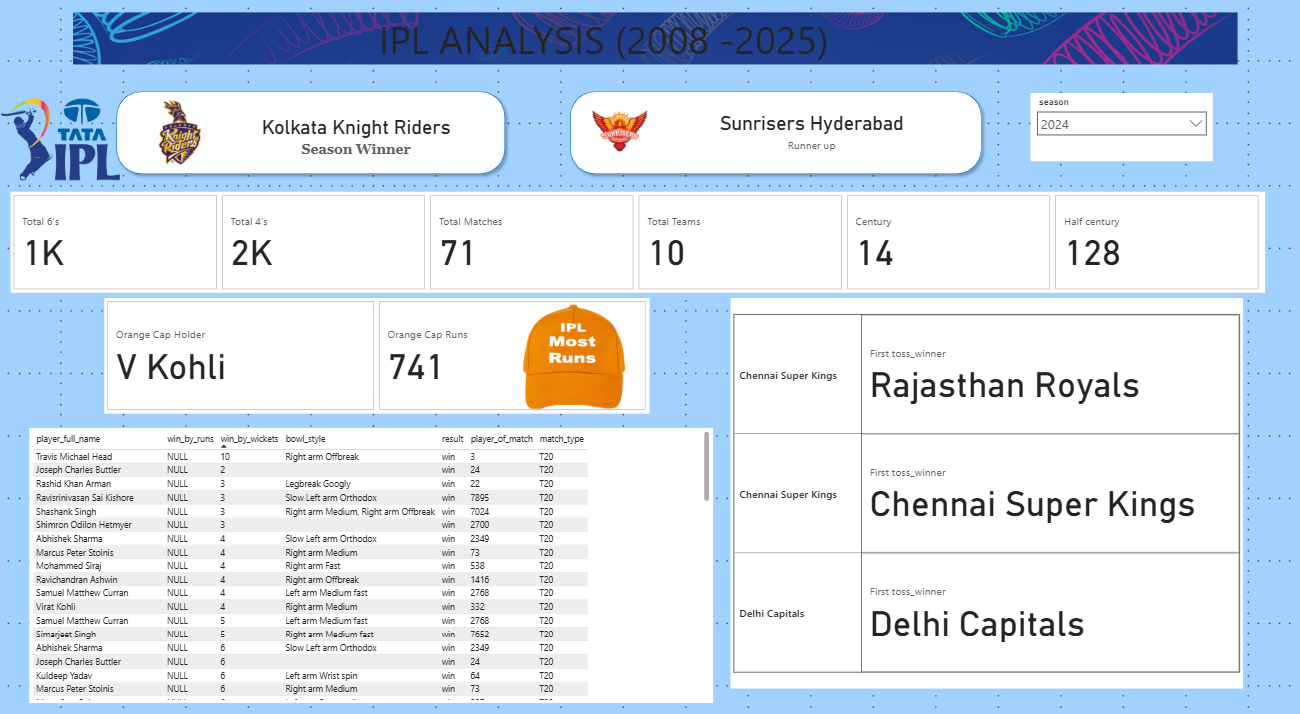

The page's visual inventory and layout, read from the dashboard file:
{"tool":"powerbi","page":{"name":"Page 1","canvas":[2000,1100],"ordinal":0},"visuals":[{"type":"cardVisual","fields":{"Data":["ipl_matches_data.Orange Cap Holder","ipl_matches_data.Orange Cap Runs"]},"box":[162.5,460,837.5,177.5],"z":0},{"type":"shape","box":[870,135,650,145],"z":1000},{"type":"shape","box":[172.5,135,615,145],"z":2000},{"type":"image","box":[20,17.5,1980,90],"z":3000},{"type":"slicer","fields":{"Values":["ipl_matches_data.season"]},"box":[1585,145,280,105],"z":4000},{"type":"card","fields":{"Values":["ipl_matches_data.Season Winner"]},"box":[280,147.5,540,120],"z":5000},{"type":"card","fields":{"Values":["ipl_matches_data.Runner up"]},"box":[985,140,530,122.5],"z":6000},{"type":"cardVisual","fields":{"Data":["ipl_matches_data.Season Winner logo"]},"box":[195,127.5,170,147.5],"z":7000},{"type":"cardVisual","fields":{"Data":["ipl_matches_data.Runner up team logo"]},"box":[887.5,140,140,115],"z":8000},{"type":"cardVisual","fields":{"Data":["ipl_matches_data.Total 6's","ipl_matches_data.Total 4's","ipl_matches_data.Total Matches","ipl_matches_data.Total Teams","ipl_matches_data.Century","ipl_matches_data.Half century"]},"box":[20,297.5,1927.5,155],"z":9000},{"type":"image","box":[787.5,460,197.5,182.5],"z":10000},{"type":"cardVisual","fields":{"Rows":["ipl_matches_data.match_winner","ipl_matches_data.toss_decision"],"Data":["ipl_matches_data.toss_winner"]},"box":[1125,460,787.5,600],"z":11000},{"type":"tableEx","fields":{"Values":["players-data-updated.player_full_name","ipl_matches_data.win_by_runs","ipl_matches_data.win_by_wickets","players-data-updated.bowl_style","ipl_matches_data.result","ipl_matches_data.player_of_match","ipl_matches_data.match_type"]},"box":[47.5,660,1050,422.5],"z":12000},{"type":"image","box":[0,0,192.5,435],"z":13000},{"type":"textbox","box":[342.5,17.5,1177.5,90],"z":14000}]}

Visuals, with their boxes in screenshot pixels (x1, y1, x2, y2), scaled from the page's 2000x1100 canvas onto the 1300x714 screenshot:
cardVisual - ipl_matches_data.Orange Cap Holder x ipl_matches_data.Orange Cap Runs: bbox=[106, 299, 650, 414]
shape: bbox=[566, 88, 988, 182]
shape: bbox=[112, 88, 512, 182]
image: bbox=[13, 11, 1299, 70]
slicer - ipl_matches_data.season: bbox=[1030, 94, 1212, 162]
card - ipl_matches_data.Season Winner: bbox=[182, 96, 533, 174]
card - ipl_matches_data.Runner up: bbox=[640, 91, 985, 170]
cardVisual - ipl_matches_data.Season Winner logo: bbox=[127, 83, 237, 178]
cardVisual - ipl_matches_data.Runner up team logo: bbox=[577, 91, 668, 166]
cardVisual - ipl_matches_data.Total 6's x ipl_matches_data.Total 4's: bbox=[13, 193, 1266, 294]
image: bbox=[512, 299, 640, 417]
cardVisual - ipl_matches_data.match_winner x ipl_matches_data.toss_decision: bbox=[731, 299, 1243, 688]
tableEx - players-data-updated.player_full_name x ipl_matches_data.win_by_runs: bbox=[31, 428, 713, 703]
image: bbox=[0, 0, 125, 282]
textbox: bbox=[223, 11, 988, 70]
